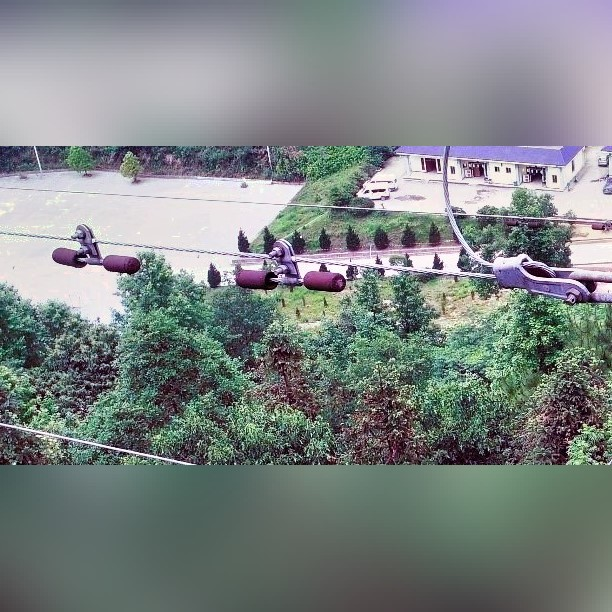Shockproof hammer: (233, 238, 348, 301), (49, 221, 143, 279)
